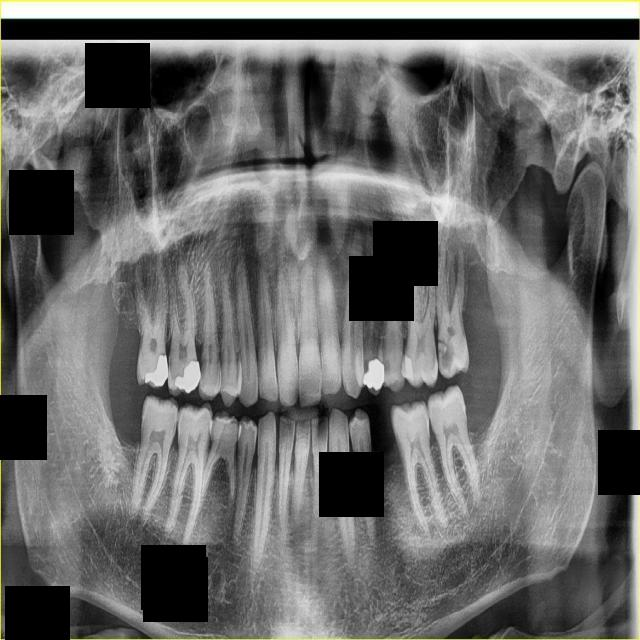NucleOSS Implant: (172, 357, 207, 396), (143, 350, 173, 388), (362, 357, 388, 392)
Sterngold Implant: (437, 338, 453, 372), (199, 353, 208, 383), (430, 342, 439, 368), (383, 357, 392, 375), (168, 355, 172, 373)
Straumann Implant: (400, 354, 414, 384)
